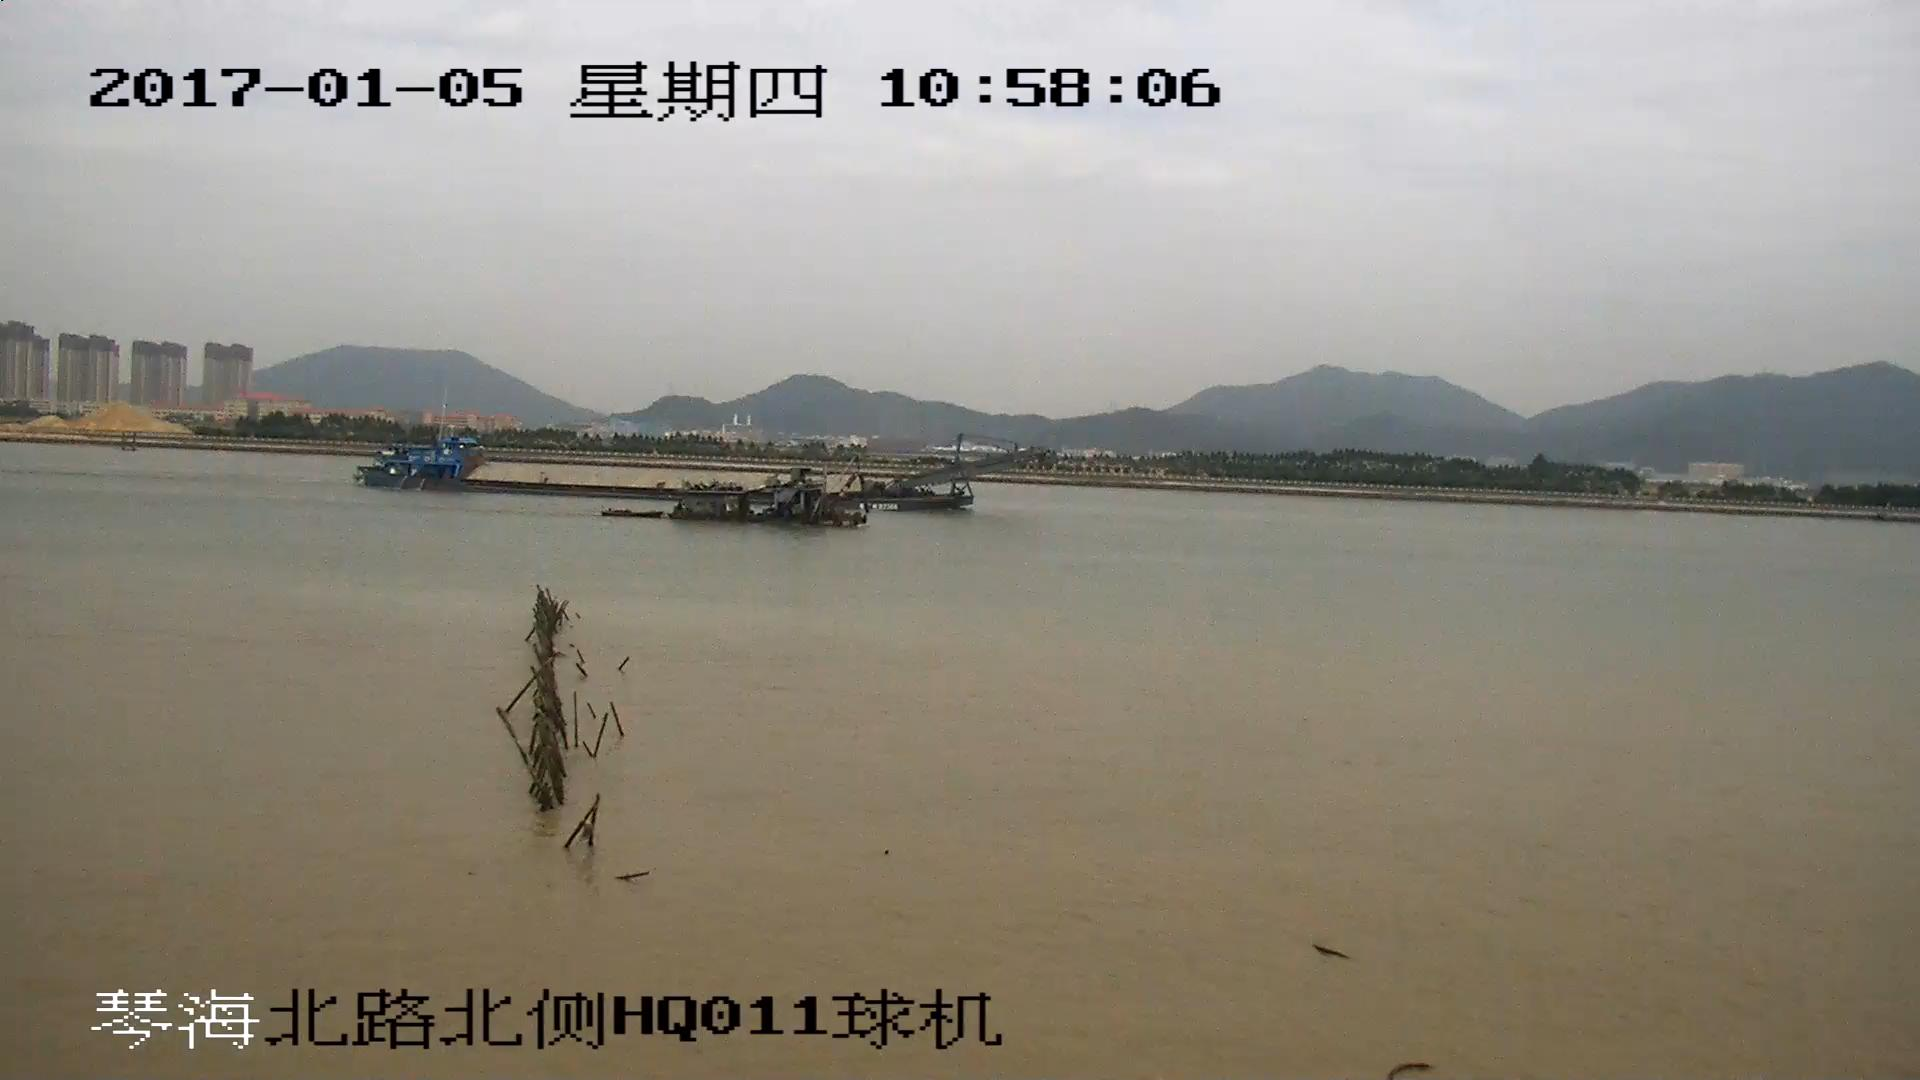ore carrier: (360, 432, 1034, 528)
